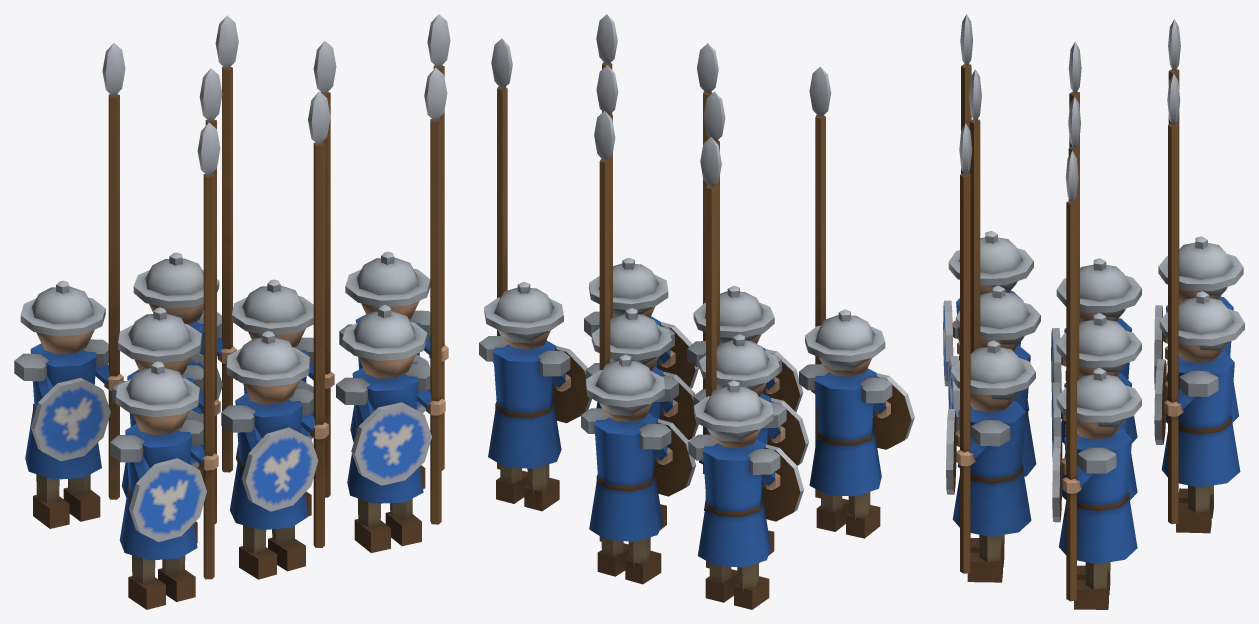
File: squad_dl2_blue.glb
The picture shows the model from 3 angles, left to right: view 1: azimuth 30°, elevation 25°; view 2: azimuth 150°, elevation 25°; view 3: azimuth 270°, elevation 25°; orthographic projection. The views are drawn at different scales.
Visible parts, largest first — view 1: squad_dl2_blue; view 2: squad_dl2_blue; view 3: squad_dl2_blue.
Boxes of the visible parts, bbox=[...] form: squad_dl2_blue: bbox=[14, 14, 450, 609]; squad_dl2_blue: bbox=[479, 14, 914, 609]; squad_dl2_blue: bbox=[943, 14, 1244, 609].
Bounding box in the file's own units: 0.6701 × 0.7916 × 0.4652.
Materials: 1 (1 with a texture image).
